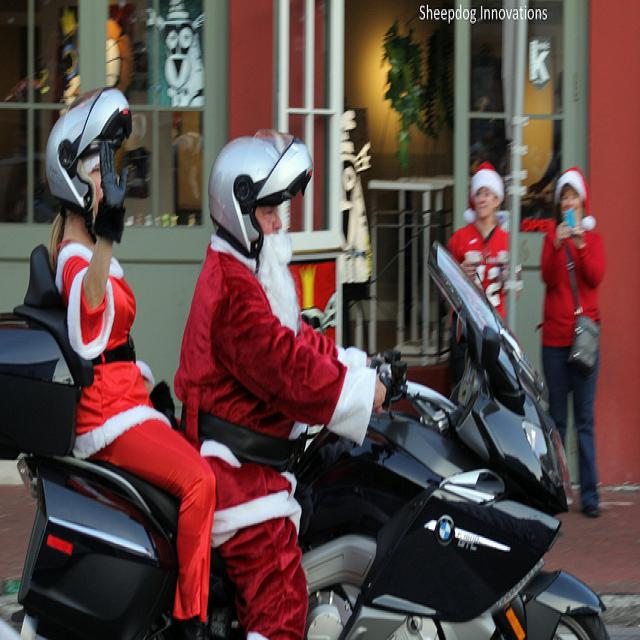motor: (0, 235, 608, 633)
